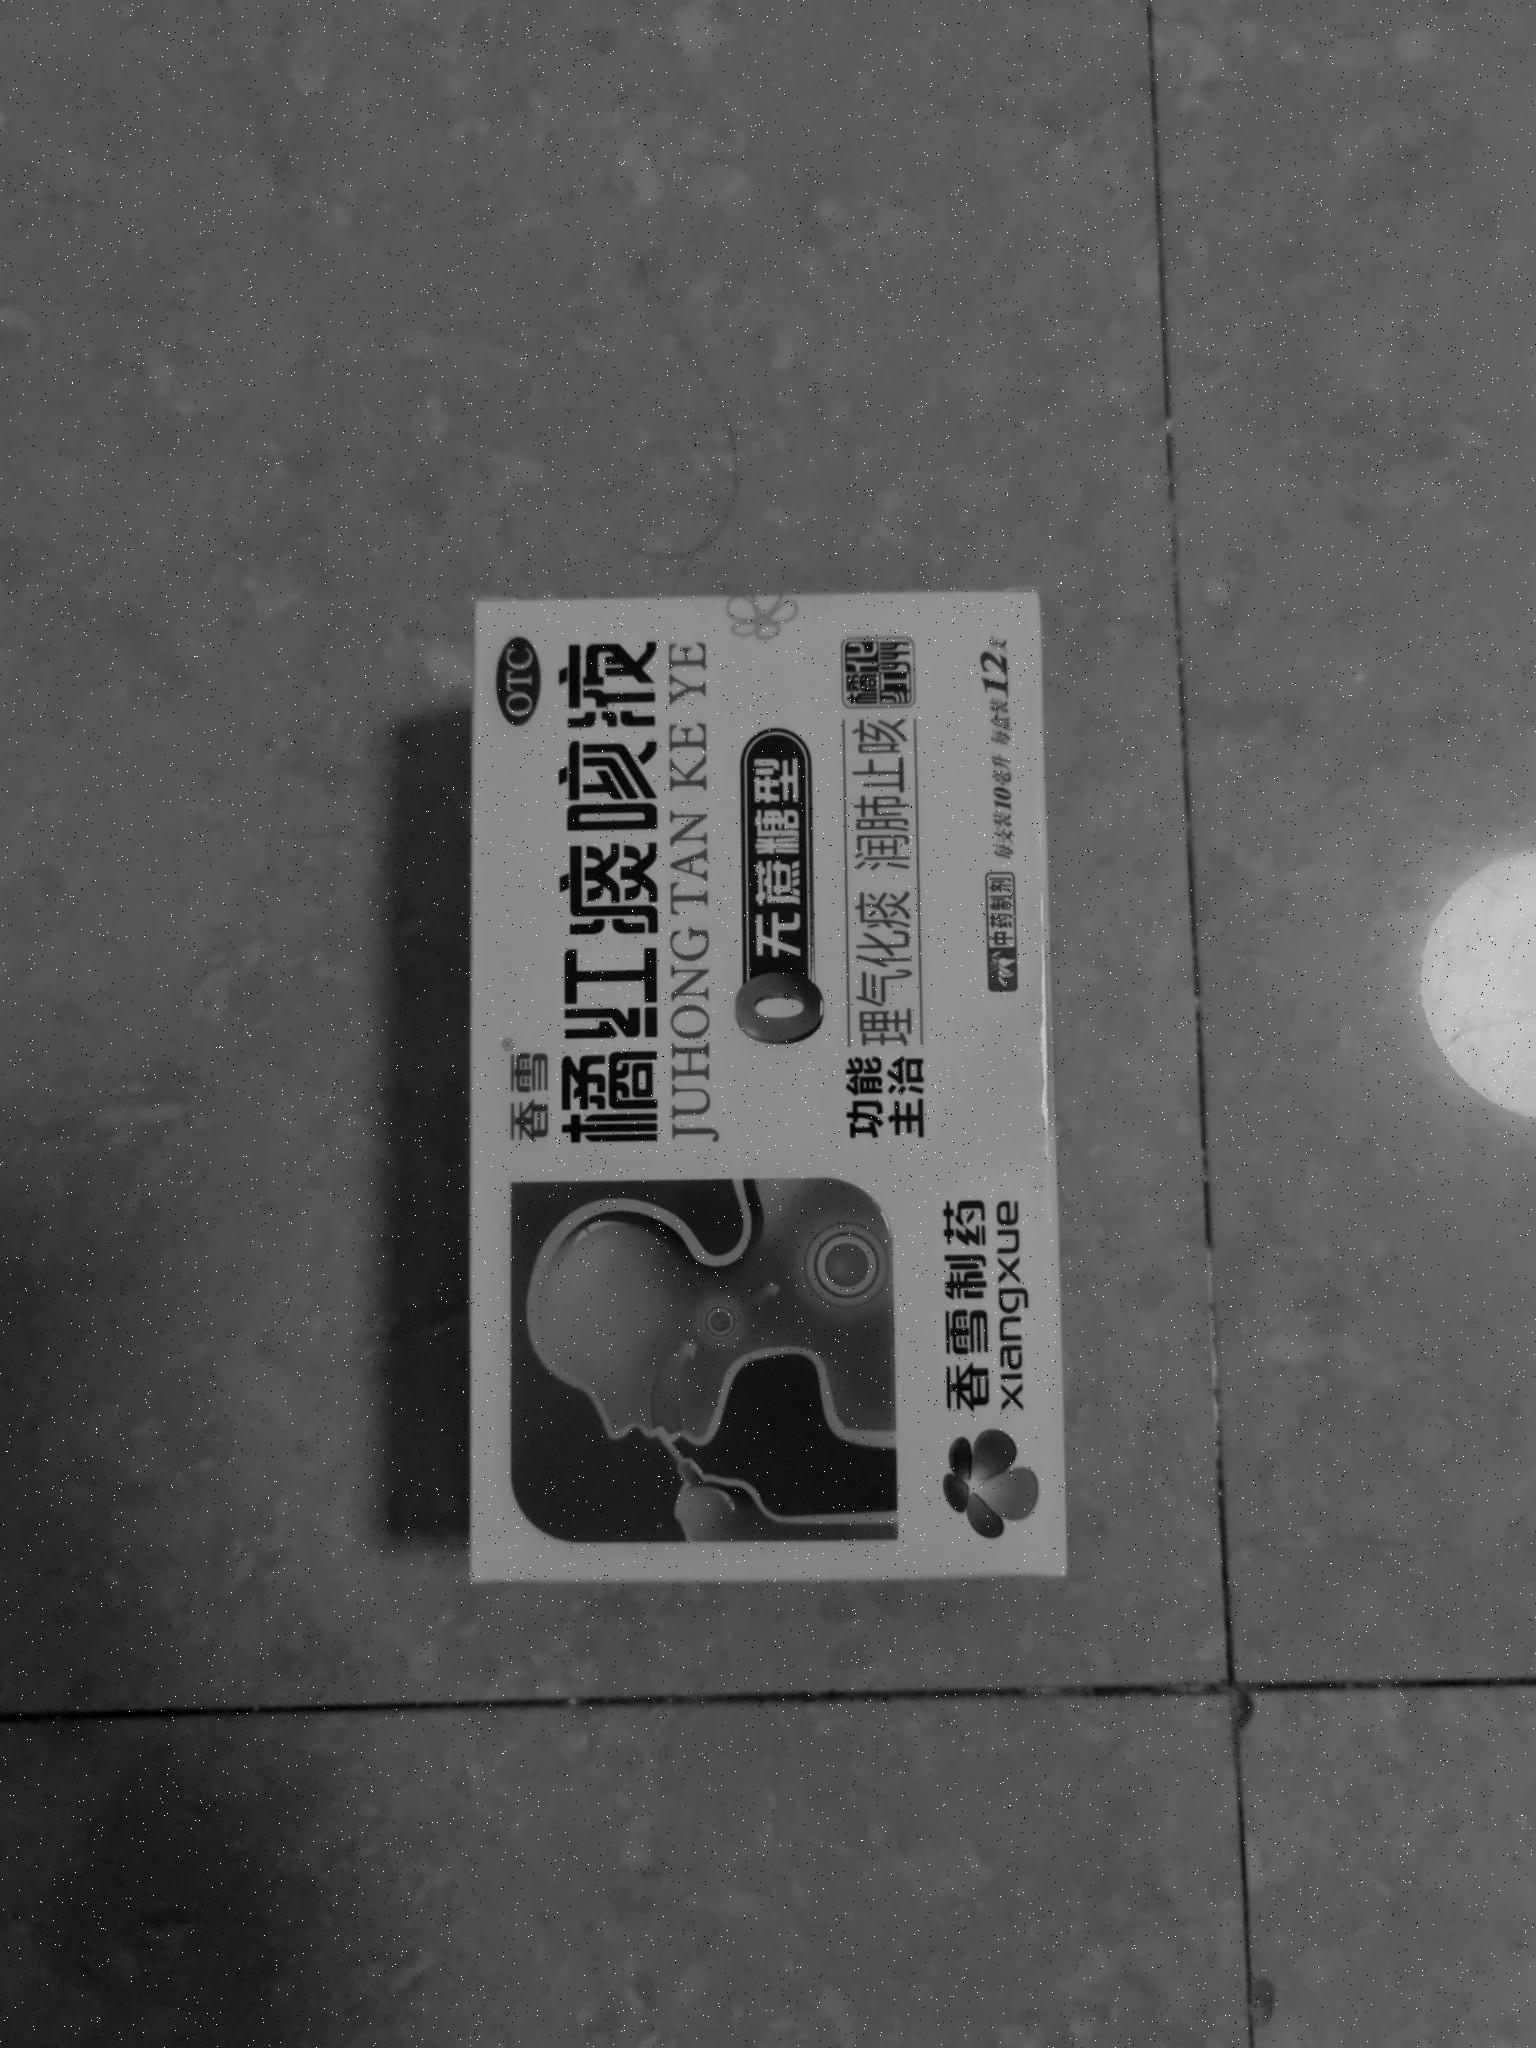Medicine1: (442, 576, 1087, 1600)
